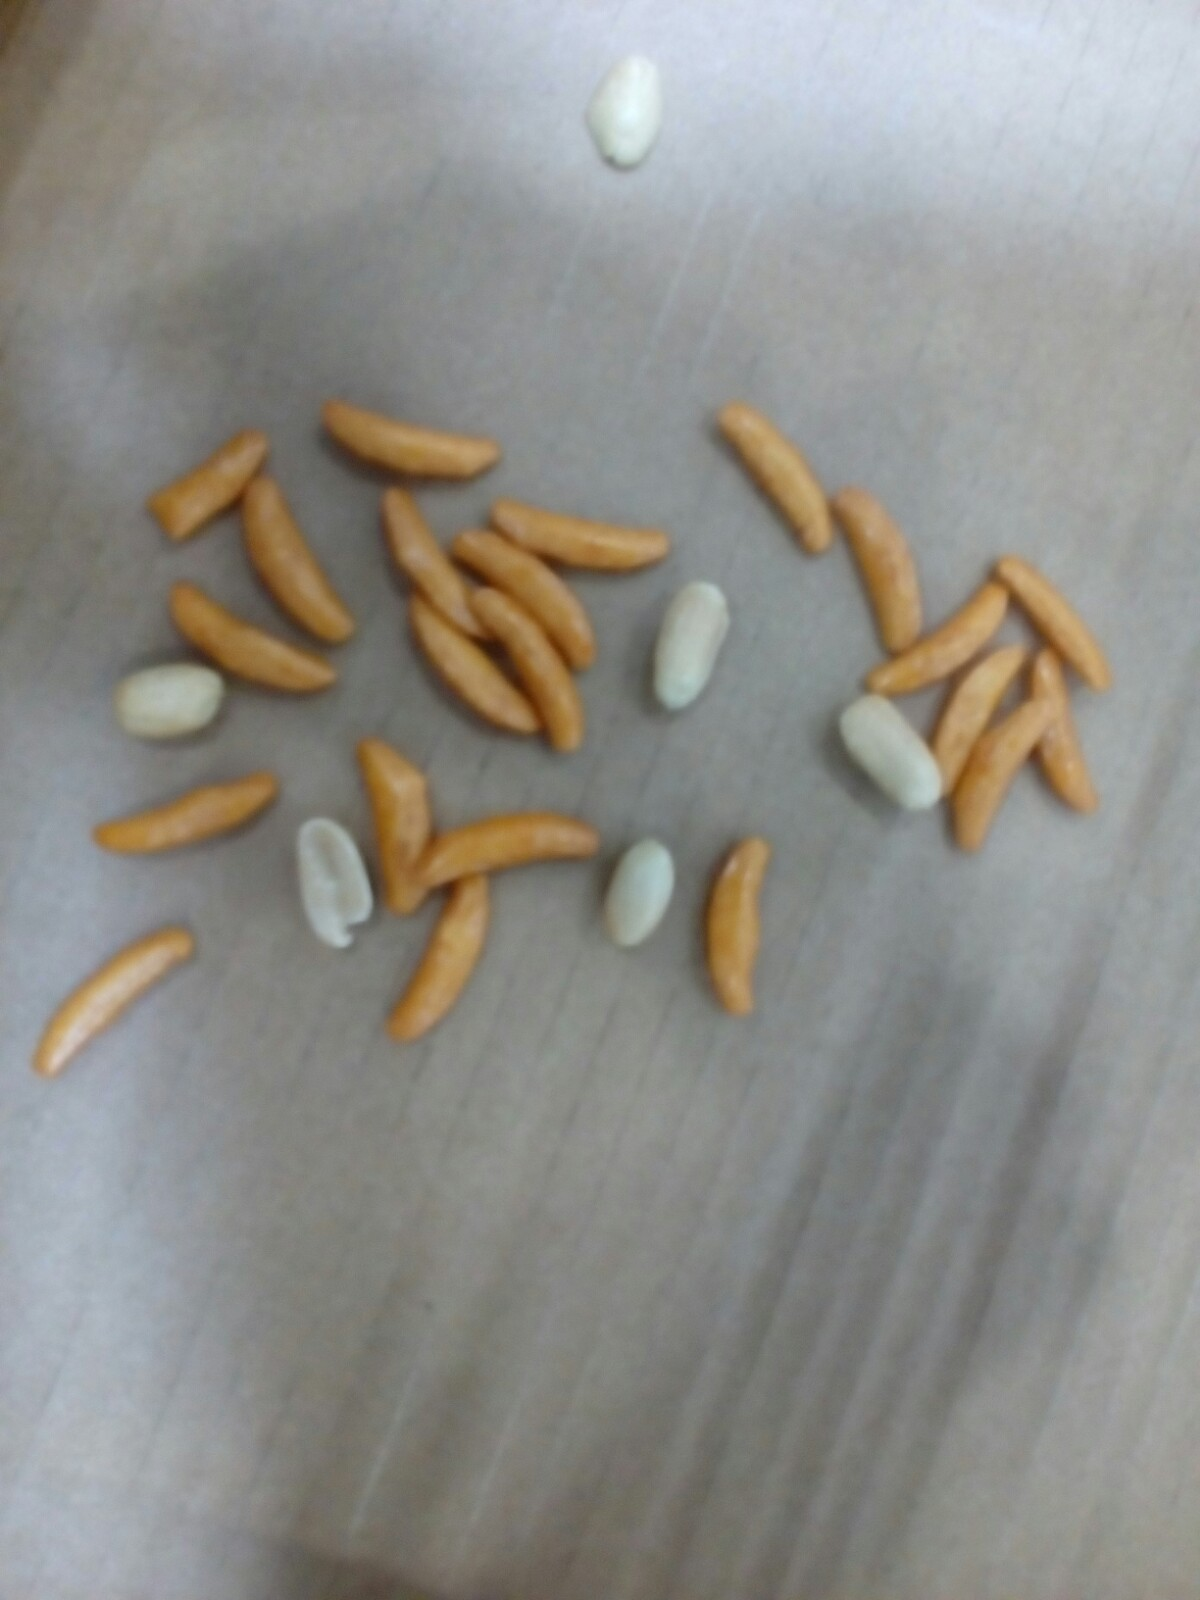peanut: (568, 38, 682, 180), (639, 572, 741, 724), (833, 689, 948, 814), (290, 808, 376, 961), (105, 655, 233, 748), (601, 833, 682, 955)
